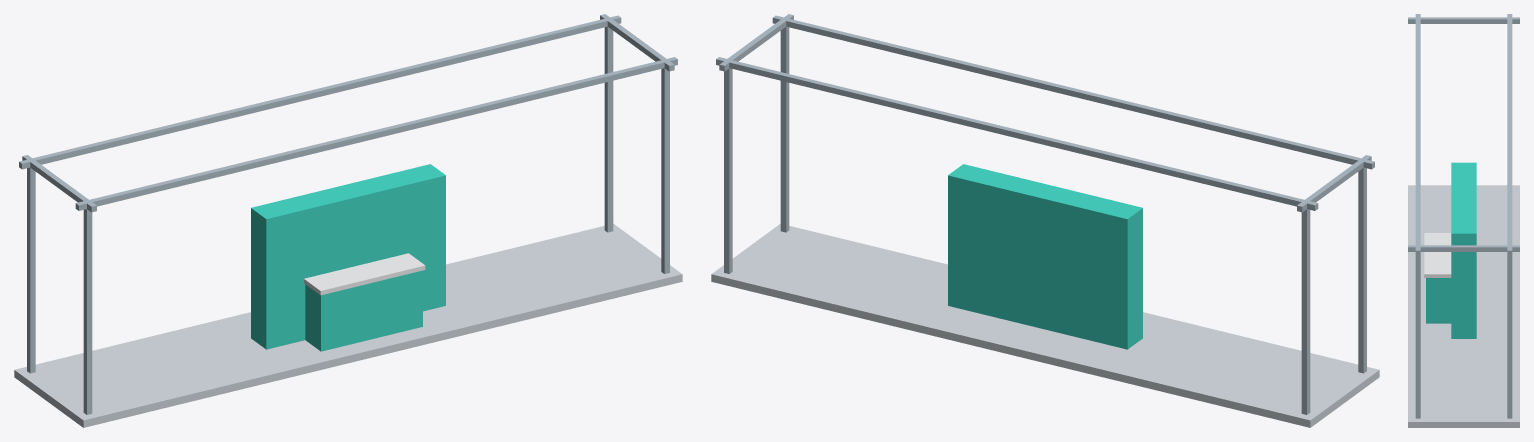
The picture shows the model from 3 angles, left to right: view 1: azimuth 30°, elevation 25°; view 2: azimuth 150°, elevation 25°; view 3: azimuth 270°, elevation 25°; orthographic projection. The views are drawn at different scales.
Visible parts, largest first — view 1: Exhibition Booth Concept; view 2: Exhibition Booth Concept; view 3: Exhibition Booth Concept.
Boxes of the visible parts, x1=… form: Exhibition Booth Concept: x1=14, y1=14, x2=682, y2=427; Exhibition Booth Concept: x1=711, y1=14, x2=1379, y2=427; Exhibition Booth Concept: x1=1408, y1=14, x2=1519, y2=427.
Size of the model in its own units: 10 by 3.49 by 2.
